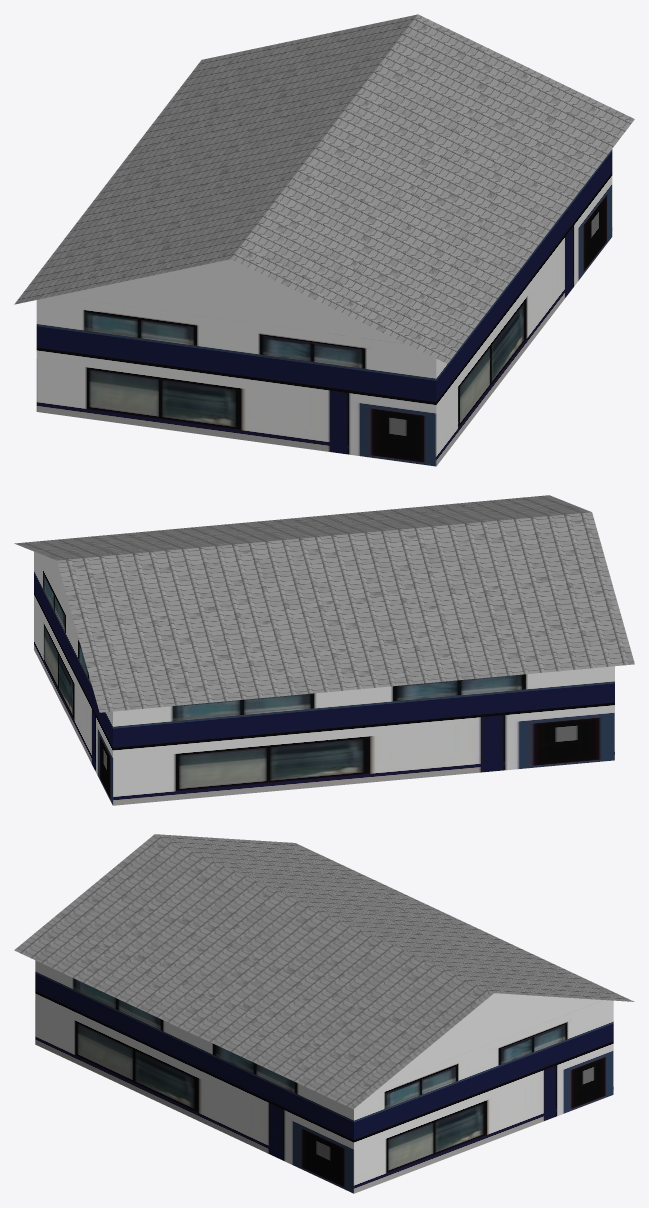
3 renders of one model, top to bottom at view 1: azimuth 30°, elevation 25°; view 2: azimuth 150°, elevation 25°; view 3: azimuth 270°, elevation 25°, orthographic. The views are drawn at different scales.
Visible parts, largest first — view 1: CityEngineMaterial_4_m, CityEngineMaterial_2_m, CityEngineMaterial_3_m; view 2: CityEngineMaterial_4_m, CityEngineMaterial_2_m, CityEngineMaterial_3_m; view 3: CityEngineMaterial_4_m, CityEngineMaterial_2_m, CityEngineMaterial_3_m.
Boxes of the visible parts, box(x1,y1,x2,y2) form: CityEngineMaterial_4_m: box(14, 14, 634, 363); CityEngineMaterial_2_m: box(36, 149, 612, 466); CityEngineMaterial_3_m: box(55, 259, 405, 343); CityEngineMaterial_4_m: box(14, 495, 634, 712); CityEngineMaterial_2_m: box(34, 551, 614, 805); CityEngineMaterial_3_m: box(39, 553, 74, 622); CityEngineMaterial_4_m: box(14, 834, 634, 1109); CityEngineMaterial_2_m: box(35, 960, 613, 1193); CityEngineMaterial_3_m: box(385, 993, 603, 1083).
Size of the model in its own units: 40.11 by 10.96 by 39.52.
